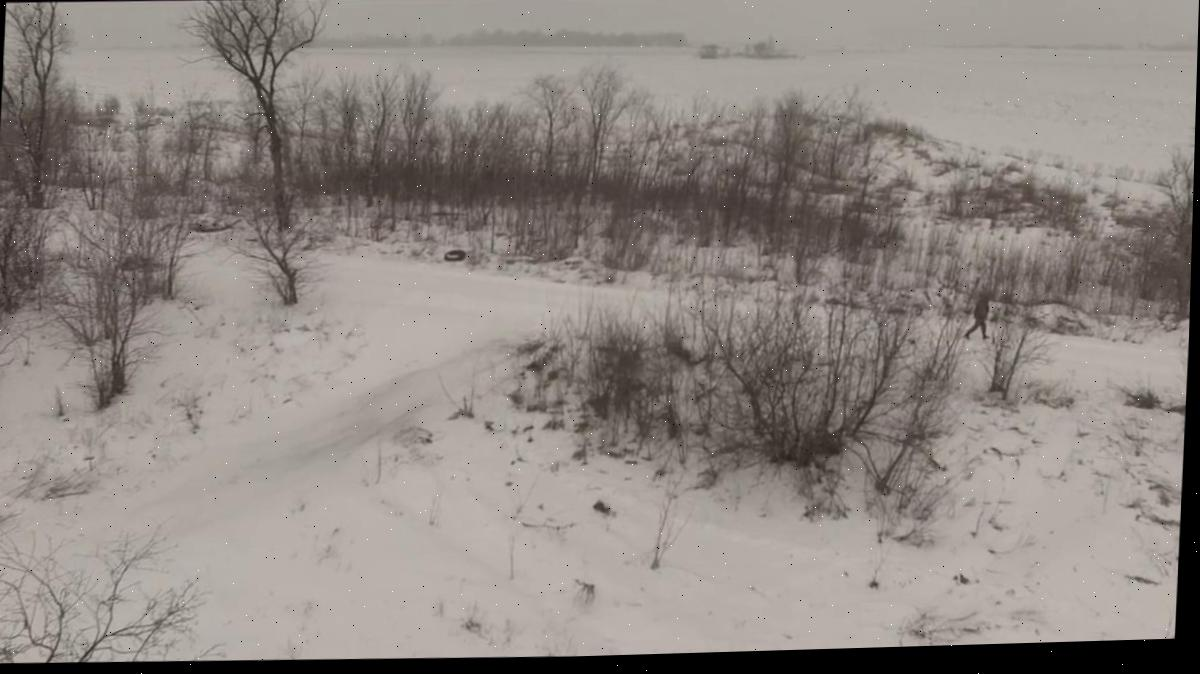person: (961, 290, 997, 343)
